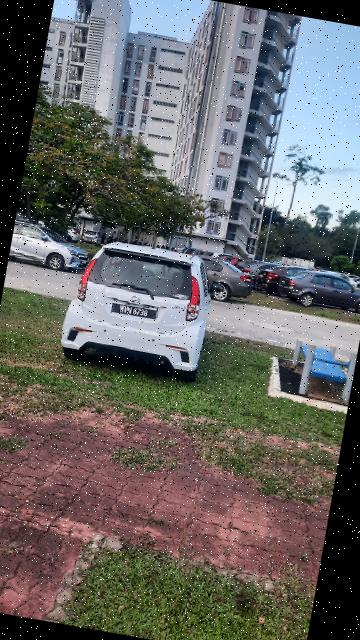License_Plate: (108, 298, 160, 323)
car: (57, 231, 222, 382)
